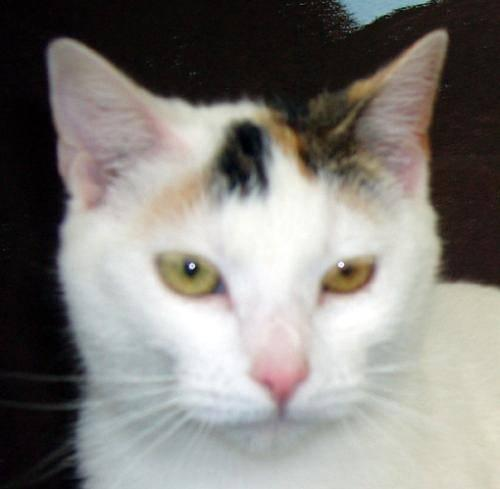cat: (48, 30, 499, 488)
